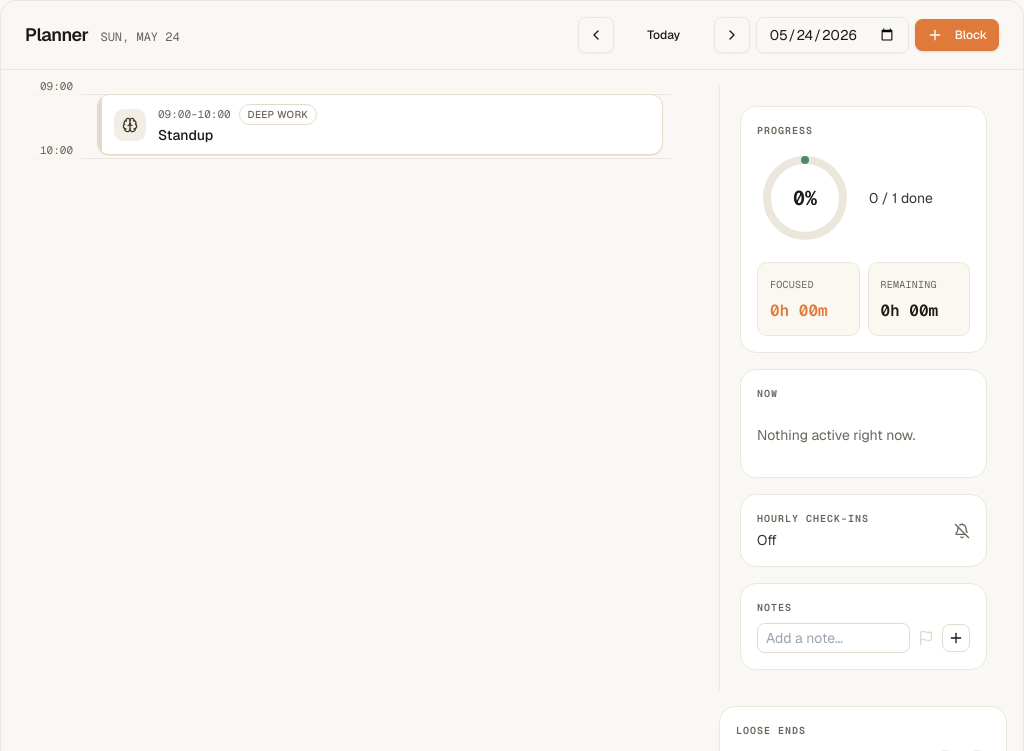
Scenario: day navigation updates the relative-day label
Click the button named "next day".
click(732, 35)  # box [714, 17, 750, 53]
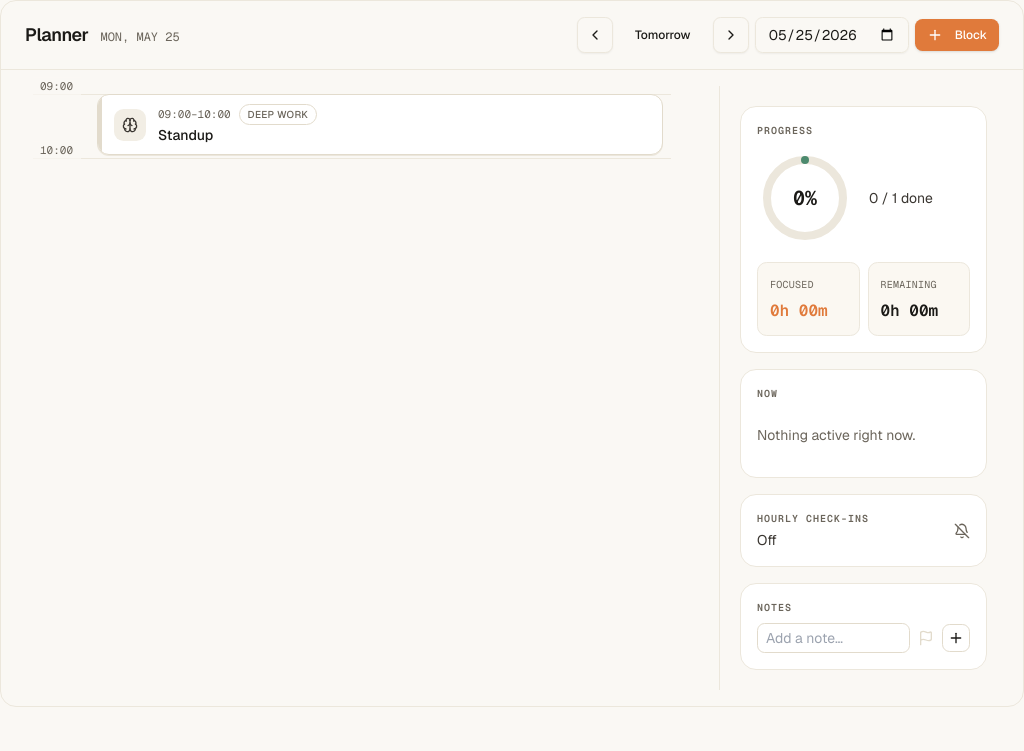
Expected: the button with aria-label "go to today" reads "Tomorrow", [619, 19, 707, 51]
Click the button named "previous day".
click(595, 35)  # box [577, 17, 613, 53]
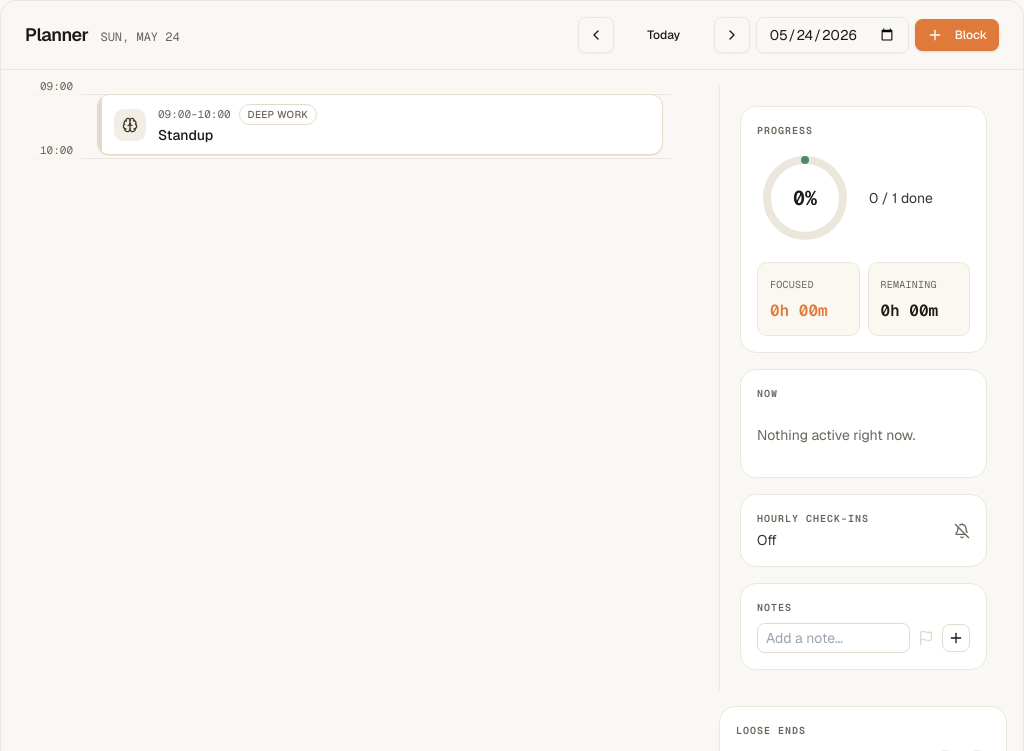
Click the button named "previous day".
click(596, 35)  # box [578, 17, 614, 53]
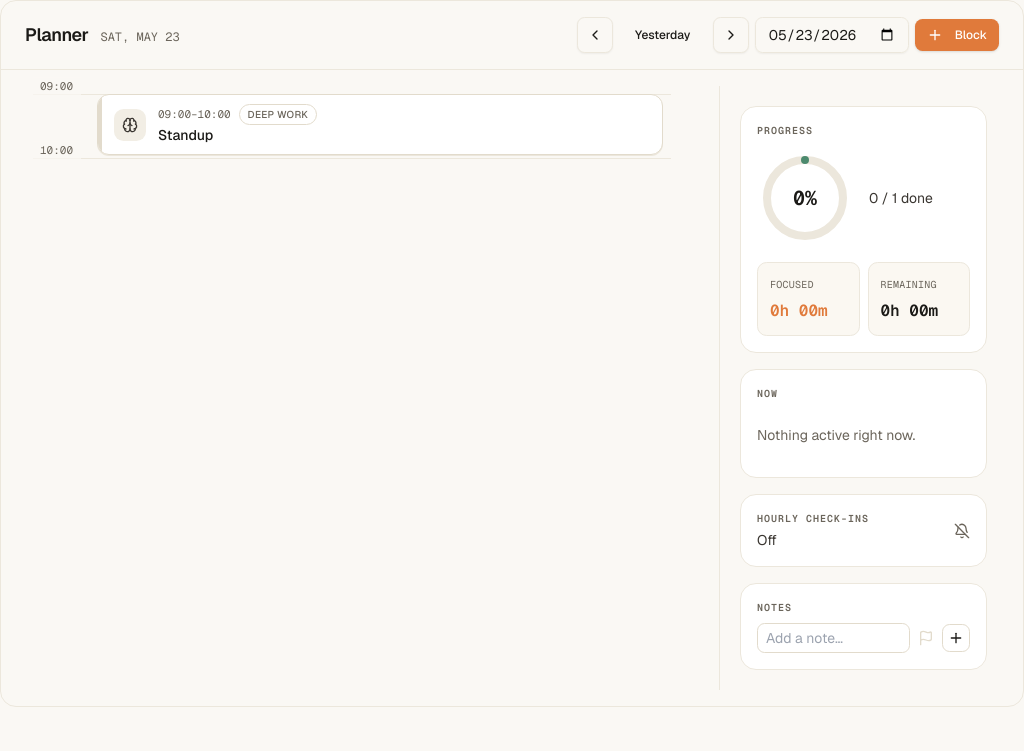
Expected: the button with aria-label "go to today" reads "Yesterday"
Click the button with aria-label "go to today".
click(663, 35)  # box [619, 19, 707, 51]
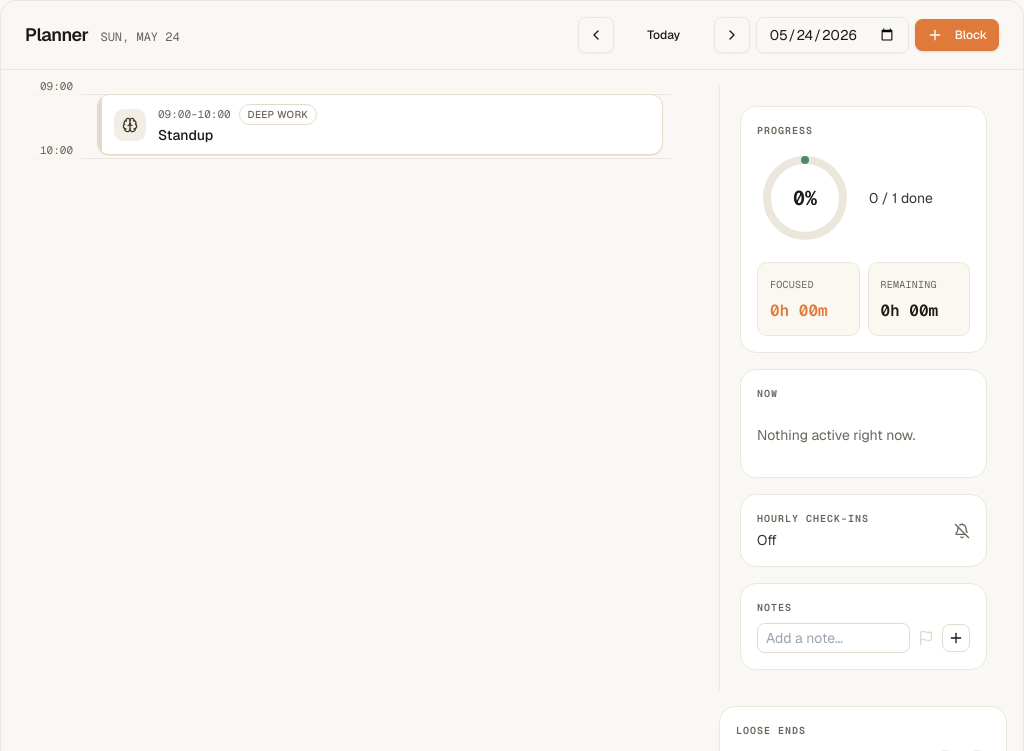
Expected: the button with aria-label "go to today" reads "Today", [620, 19, 708, 51]
